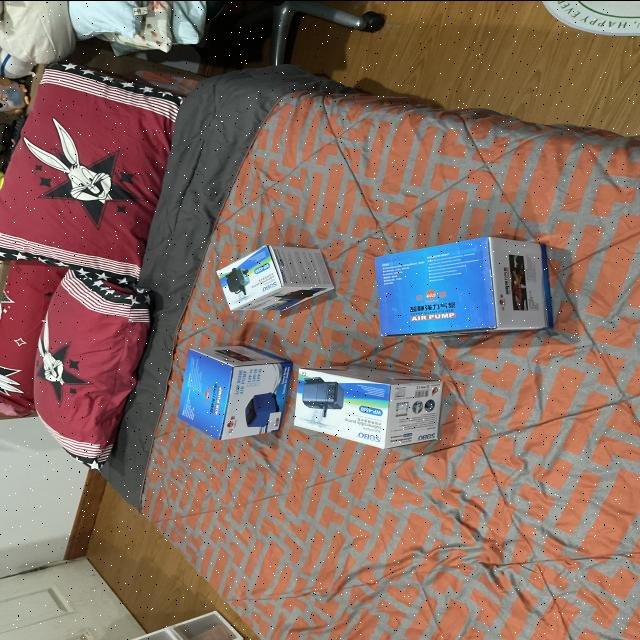SOBO_WP_4200: (288, 356, 446, 454), (212, 241, 336, 319)
YAMANO_LPP_20: (374, 229, 558, 345), (165, 342, 292, 448)
